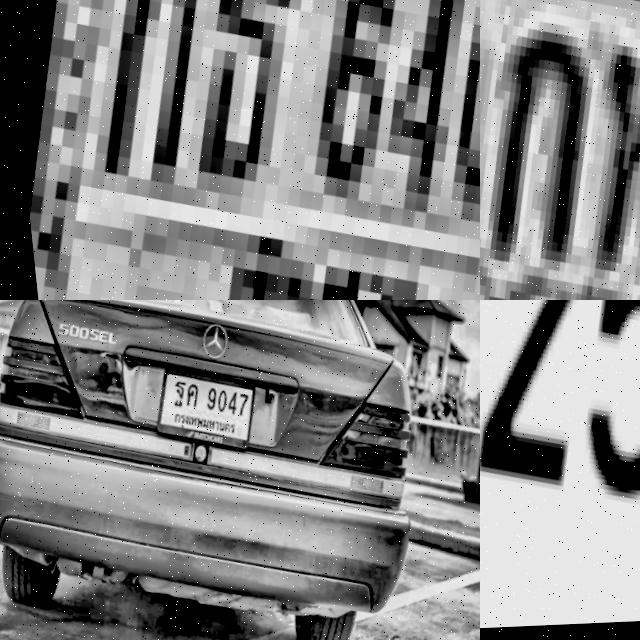license-plate: (0, 0, 480, 300), (480, 300, 640, 640), (480, 0, 640, 300), (136, 363, 258, 462)
